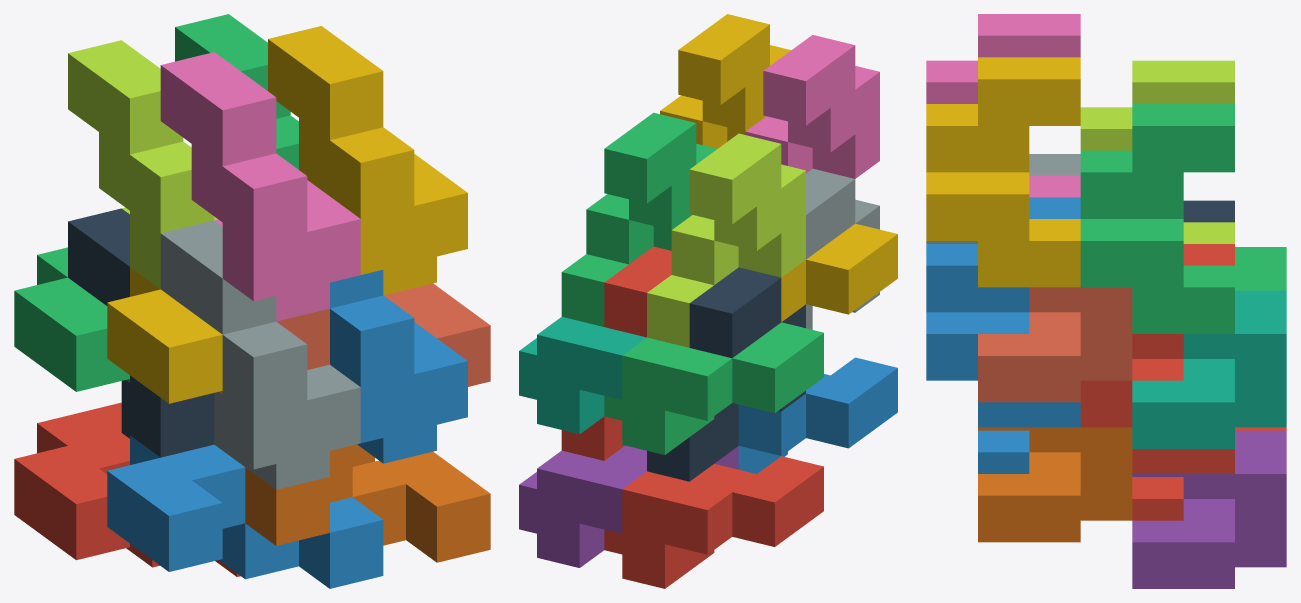
The model's file is tiling.obj.
The picture shows the model from 3 angles, left to right: view 1: azimuth 30°, elevation 25°; view 2: azimuth 150°, elevation 25°; view 3: azimuth 270°, elevation 25°; orthographic projection. The views are drawn at different scales.
Parts seen in each view (by area): view 1: copy_2_domain_4, copy_2_domain_8, copy_2_domain_2, copy_1_domain_2, copy_2_domain_3, copy_1_domain_6, copy_2_domain_6, copy_1_domain_1, copy_1_domain_4, copy_2_domain_1, copy_1_domain_3, copy_1_domain_8 (+1 smaller); view 2: copy_2_domain_3, copy_1_domain_1, copy_1_domain_3, copy_2_domain_7, copy_2_domain_4, copy_1_domain_5, copy_2_domain_1, copy_2_domain_8, copy_1_domain_2, copy_1_domain_7, copy_1_domain_4, copy_2_domain_5 (+1 smaller); view 3: copy_2_domain_8, copy_2_domain_7, copy_1_domain_5, copy_1_domain_7, copy_1_domain_6, copy_1_domain_8, copy_2_domain_6, copy_2_domain_5, copy_2_domain_4, copy_2_domain_3, copy_1_domain_1, copy_1_domain_3 (+3 smaller).
Part boxes in pixels (x1,y1,x2,y2): copy_2_domain_4: (160, 52, 360, 321); copy_2_domain_8: (268, 26, 467, 295); copy_2_domain_2: (160, 220, 360, 489); copy_1_domain_2: (107, 435, 383, 588); copy_2_domain_3: (68, 40, 217, 288); copy_1_domain_6: (245, 444, 490, 562); copy_2_domain_6: (330, 270, 467, 463); copy_1_domain_1: (14, 402, 240, 576); copy_1_domain_4: (107, 267, 222, 403); copy_2_domain_1: (68, 208, 214, 457); copy_1_domain_3: (14, 247, 129, 391); copy_1_domain_8: (277, 283, 490, 386); copy_2_domain_3: (647, 133, 805, 347); copy_1_domain_1: (604, 456, 823, 588); copy_1_domain_3: (604, 322, 823, 454); copy_2_domain_7: (561, 112, 716, 326); copy_2_domain_4: (745, 35, 879, 178); copy_1_domain_5: (519, 445, 738, 567); copy_2_domain_1: (647, 267, 805, 481); copy_2_domain_8: (660, 14, 791, 148); copy_1_domain_2: (738, 357, 897, 473); copy_1_domain_7: (519, 317, 646, 434); copy_1_domain_4: (781, 223, 897, 321); copy_2_domain_5: (561, 246, 671, 460); copy_2_domain_8: (926, 57, 1080, 287); copy_2_domain_7: (1080, 104, 1234, 333); copy_1_domain_5: (1132, 430, 1286, 588); copy_1_domain_7: (1132, 290, 1286, 448); copy_1_domain_6: (978, 427, 1132, 542); copy_1_domain_8: (978, 287, 1132, 402); copy_2_domain_6: (926, 197, 1080, 427); copy_2_domain_5: (1080, 244, 1234, 473); copy_2_domain_4: (926, 14, 1080, 197); copy_2_domain_3: (1080, 60, 1234, 243); copy_1_domain_1: (1132, 427, 1286, 520); copy_1_domain_3: (1235, 247, 1286, 290).
Size of the model in its own units: 6 by 10 by 7.
